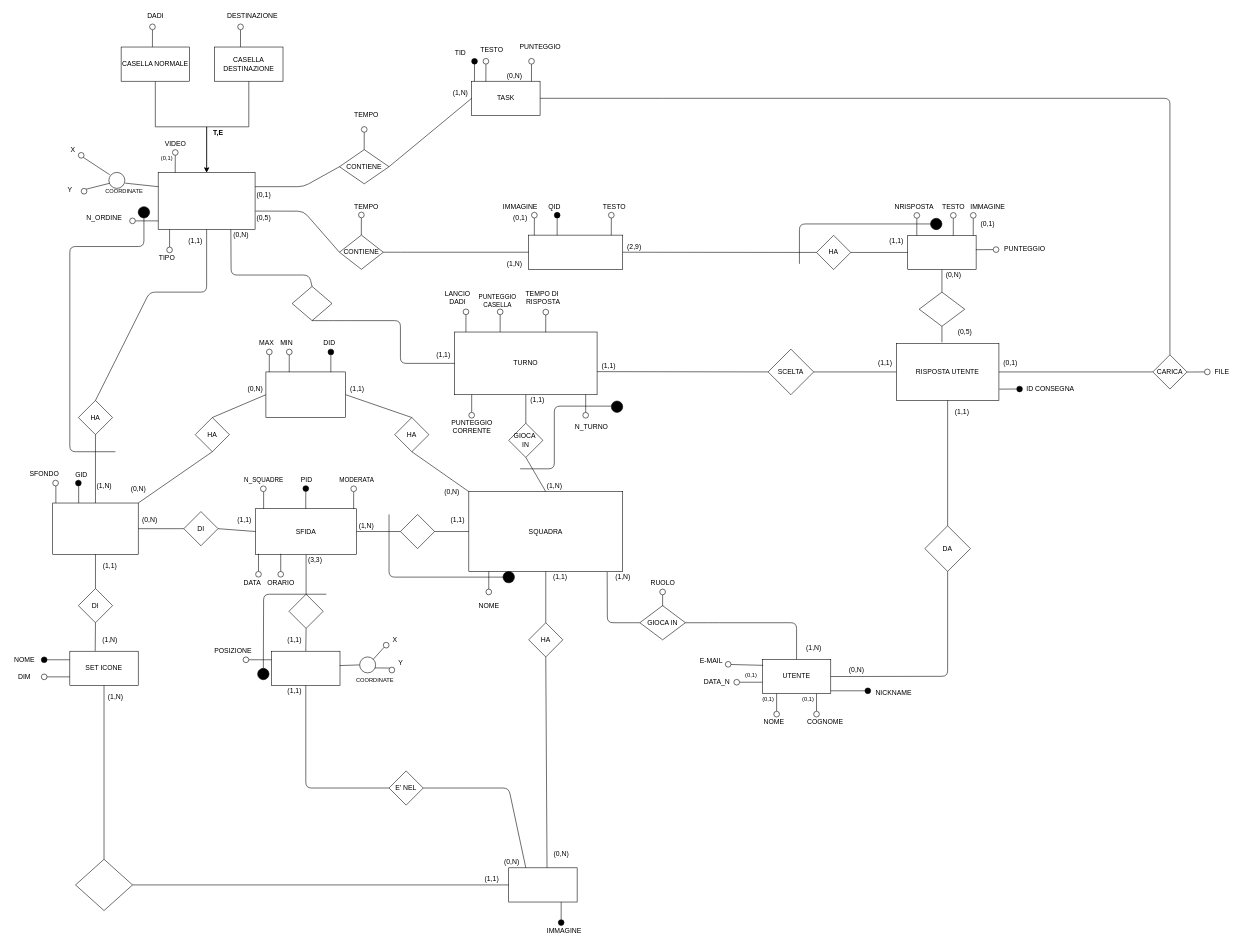
Some shapes in this 1243 by 947 pixel diagram are drawn without their labels. The centre of each missing label's shape, as x and y in pixels:
"APPARTIENE" belongs at (104,885).
"CASELLA" belongs at (206,200).
"DADO" belongs at (305,394).
"DELLA" belongs at (305,611).
"GIOCA" belongs at (417,531).
"GIOCA SULLA" belongs at (312,303).
"GIOCO" belongs at (95,528).
"ICONA SQUADRA" belongs at (542,884).
"PODIO" belongs at (305,668).
"QUIZ" belongs at (575,252).
"RISPONDE" belongs at (942,309).
"RISPOSTA QUIZ" belongs at (941,252).
